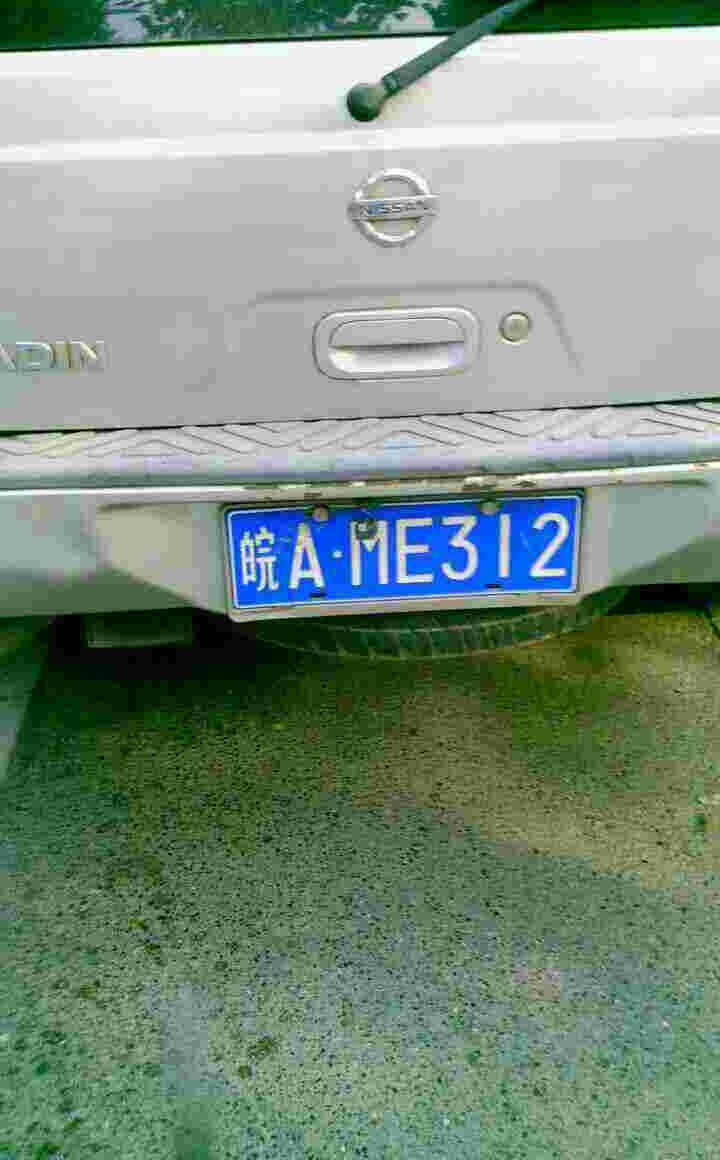car_blue: (221, 484, 585, 612)
